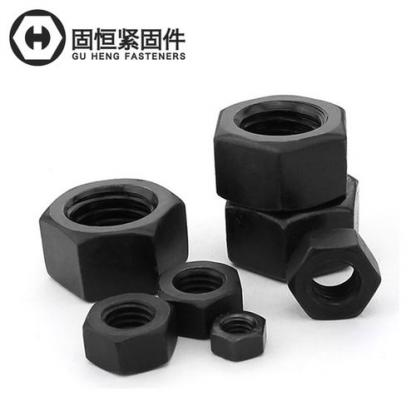FOD: (37, 176, 190, 307), (211, 90, 351, 215), (223, 168, 365, 274), (284, 225, 382, 322), (79, 291, 179, 378), (158, 260, 244, 340), (208, 312, 270, 364)
